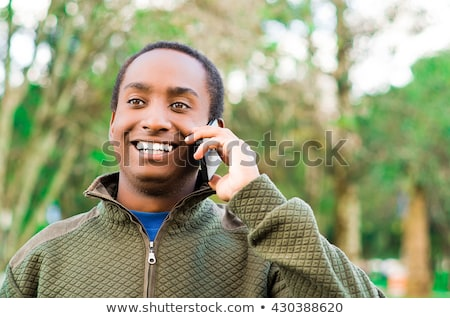phone: (192, 116, 225, 182)
talk: (110, 79, 251, 193)
